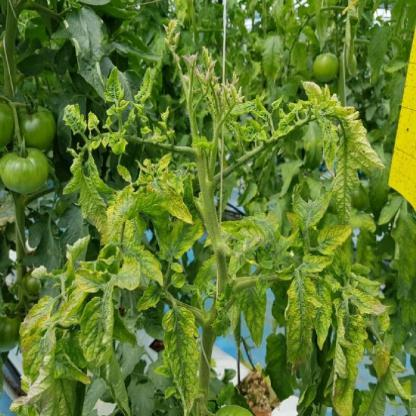Tomato leaf yellow virus: (5, 292, 61, 409), (159, 295, 202, 412), (281, 270, 322, 384), (330, 302, 371, 415), (68, 157, 120, 240), (81, 292, 117, 379), (236, 282, 268, 350), (159, 182, 195, 237), (125, 241, 169, 285), (339, 284, 393, 319), (313, 225, 361, 254), (111, 258, 144, 293), (73, 266, 98, 299)
